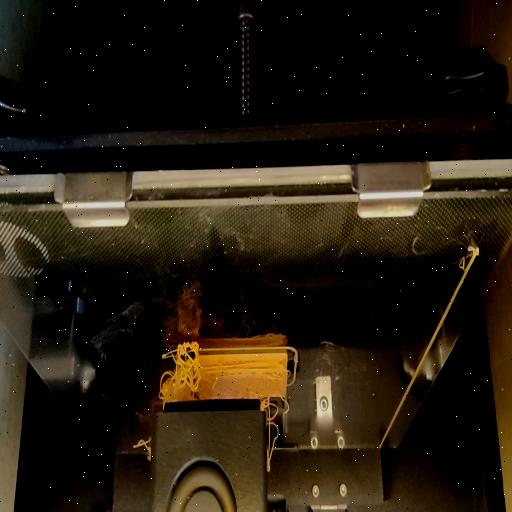spaghetti: (162, 342, 204, 400), (264, 378, 286, 470), (132, 444, 153, 464)
